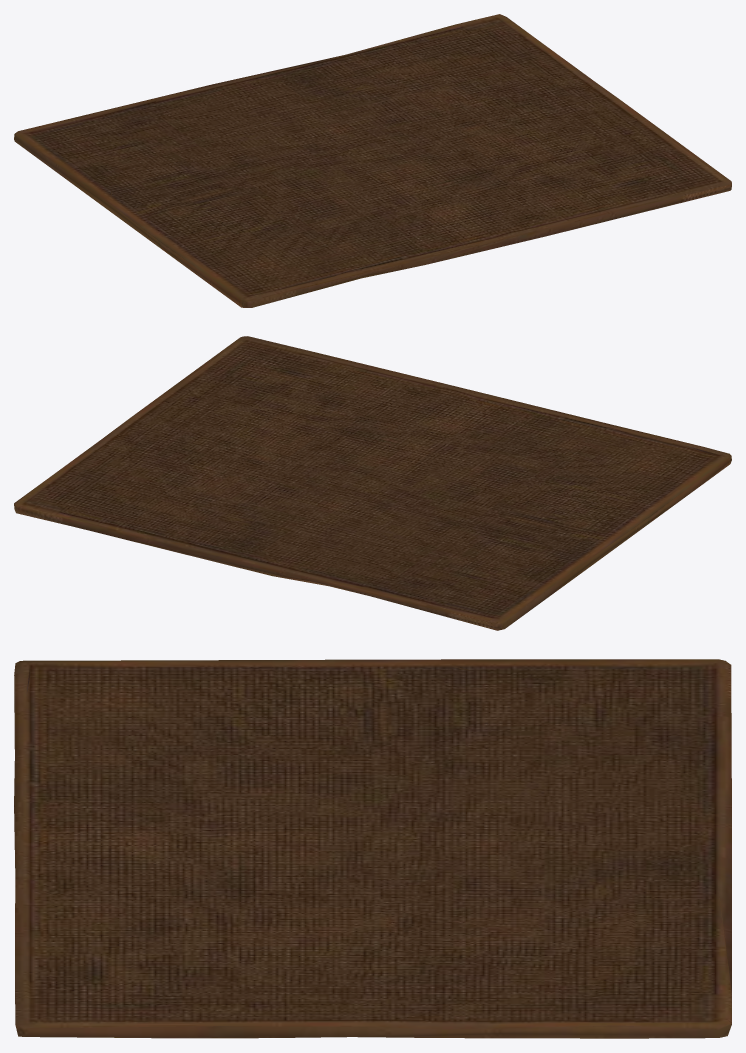
Rendered from carpet.glb.
The picture shows the model from 3 angles, top to bottom: view 1: azimuth 30°, elevation 25°; view 2: azimuth 150°, elevation 25°; view 3: azimuth 270°, elevation 25°; orthographic projection. The views are drawn at different scales.
Visible parts, largest first — view 1: Mesh1.0; view 2: Mesh1.0; view 3: Mesh1.0.
Boxes of the visible parts, x1,y1,x2,y2 form: Mesh1.0: (14,14,731,307); Mesh1.0: (14,336,731,630); Mesh1.0: (14,659,731,1038).
Bounding box in the file's own units: 1.91 × 0.0317 × 1.57.
Materials: 1 (1 with a texture image).
